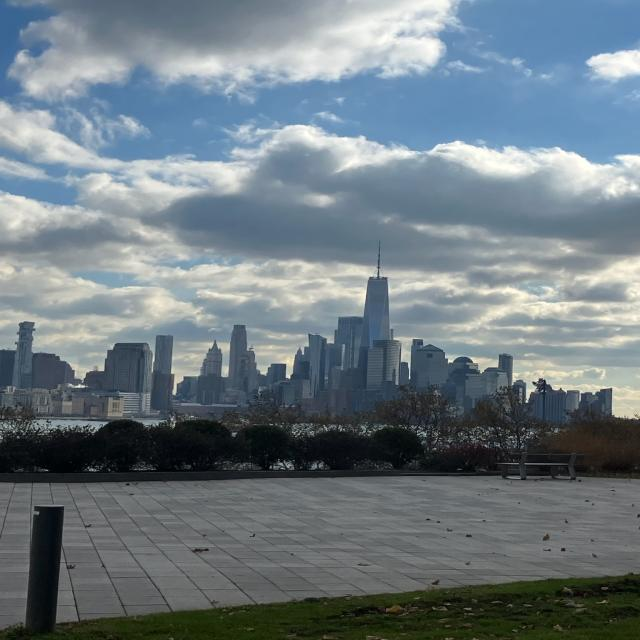WTC: (362, 245, 396, 339)
